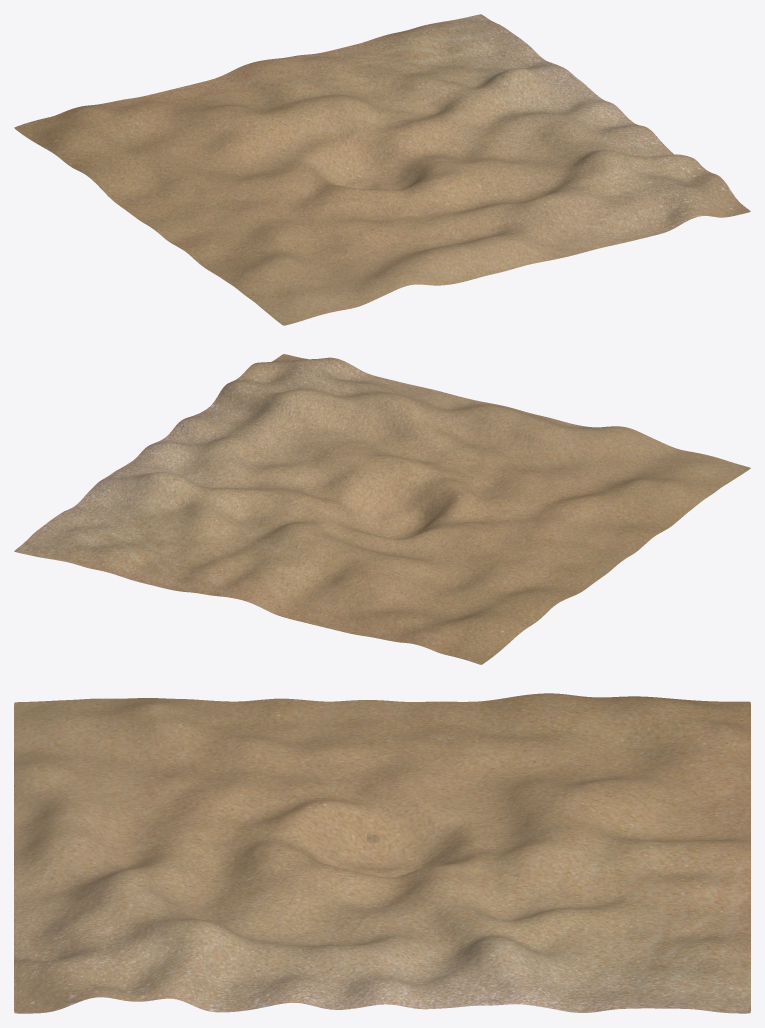
Rendered from beach.fbx.
3 views of the same model, one above another, from view 1: azimuth 30°, elevation 25°; view 2: azimuth 150°, elevation 25°; view 3: azimuth 270°, elevation 25° (orthographic). The views are drawn at different scales.
Parts seen in each view (by area): view 1: Plane; view 2: Plane; view 3: Plane.
Boxes of the visible parts, box(x1,y1,x2,y2) form: Plane: box(14, 14, 750, 325); Plane: box(14, 354, 750, 664); Plane: box(14, 693, 750, 1013).
Bounding box in the file's own units: 238 × 21.84 × 238.
